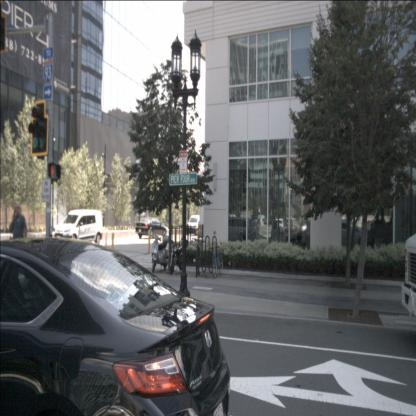human-pedestrian-adult: (9, 204, 27, 275)
movable_object-trafficcone: (105, 232, 108, 245)
vehicle-car: (0, 237, 231, 416), (52, 209, 103, 247), (331, 219, 368, 250), (221, 217, 251, 242), (136, 217, 167, 239), (239, 219, 259, 240), (187, 215, 206, 235), (272, 218, 284, 230)
vehicle-motorcycle: (149, 227, 170, 273), (167, 238, 189, 274)
vehicle-truck: (365, 205, 415, 261)
